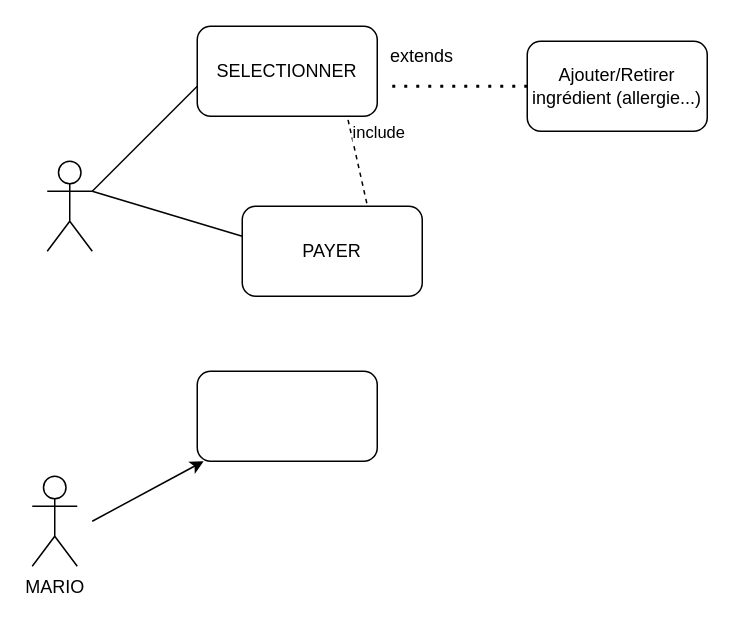
This 734x624 diagram has some shape labels left out. The centre of each missing label's shape, as x and y in pixels:
"CLIENT" belongs at (x=69, y=205).
"SAISIE DES INGREDIENTS" belongs at (x=286, y=415).
